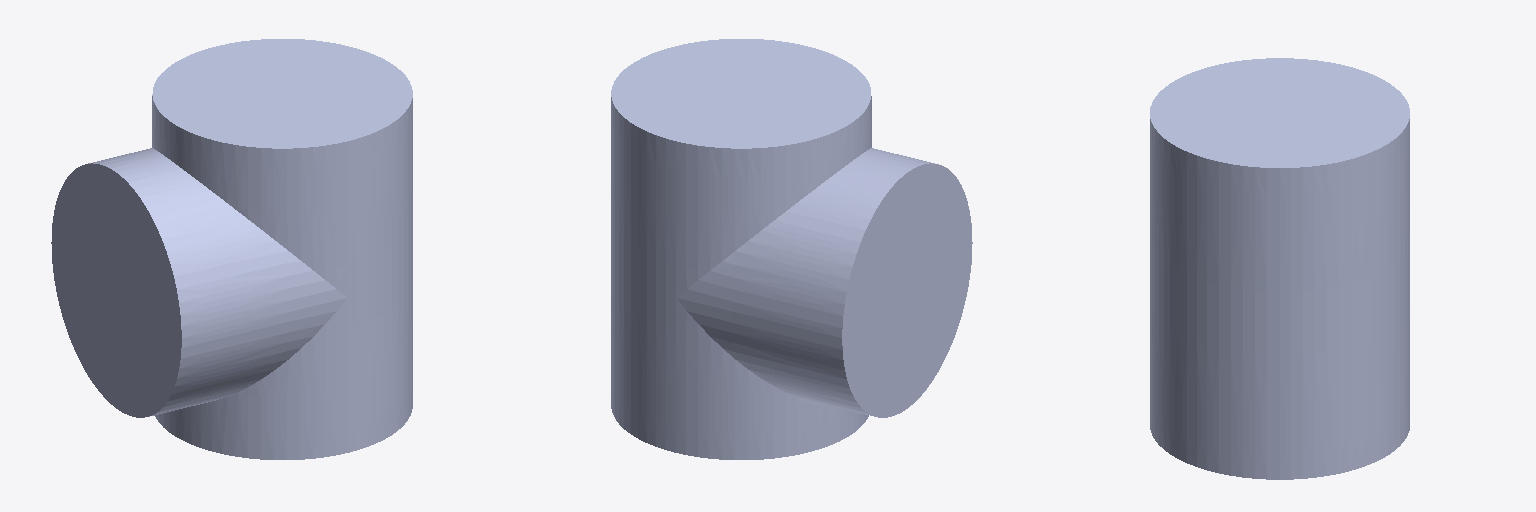
3 renders of one model, left to right at view 1: azimuth 30°, elevation 25°; view 2: azimuth 150°, elevation 25°; view 3: azimuth 270°, elevation 25°, orthographic.
Visible parts, largest first — view 1: [number redacted]; view 2: [number redacted]; view 3: [number redacted].
Part boxes in pixels (bbox=[...]): [number redacted]: bbox=[51, 39, 412, 459]; [number redacted]: bbox=[611, 39, 972, 459]; [number redacted]: bbox=[1150, 58, 1409, 479].
Bounding box in the file's own units: 0.4999 × 0.5339 × 0.4045.